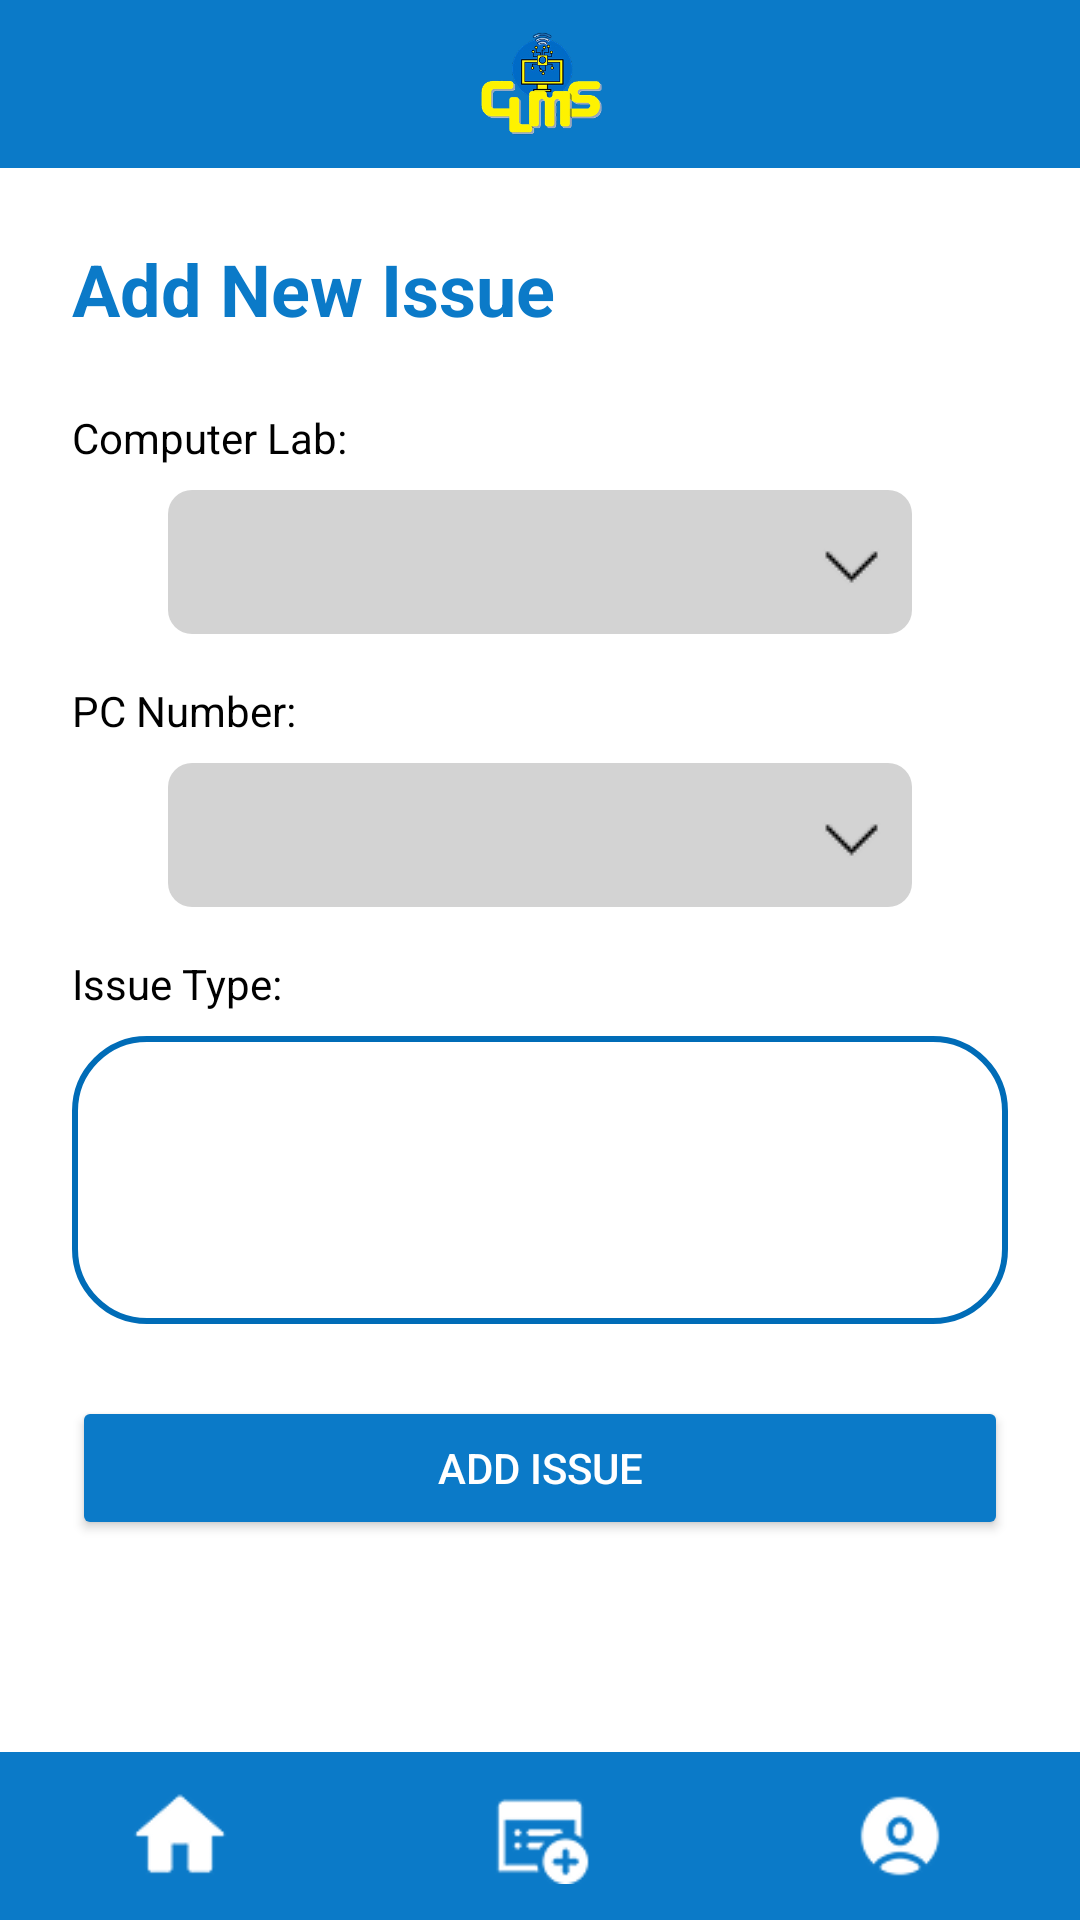

Icons on this 1080 × 1920 Android screen, each with its box as (x1, y1, x2, y2):
Home: (135, 1794, 225, 1873)
Issue: (497, 1799, 589, 1884)
Profile: (860, 1796, 940, 1876)
